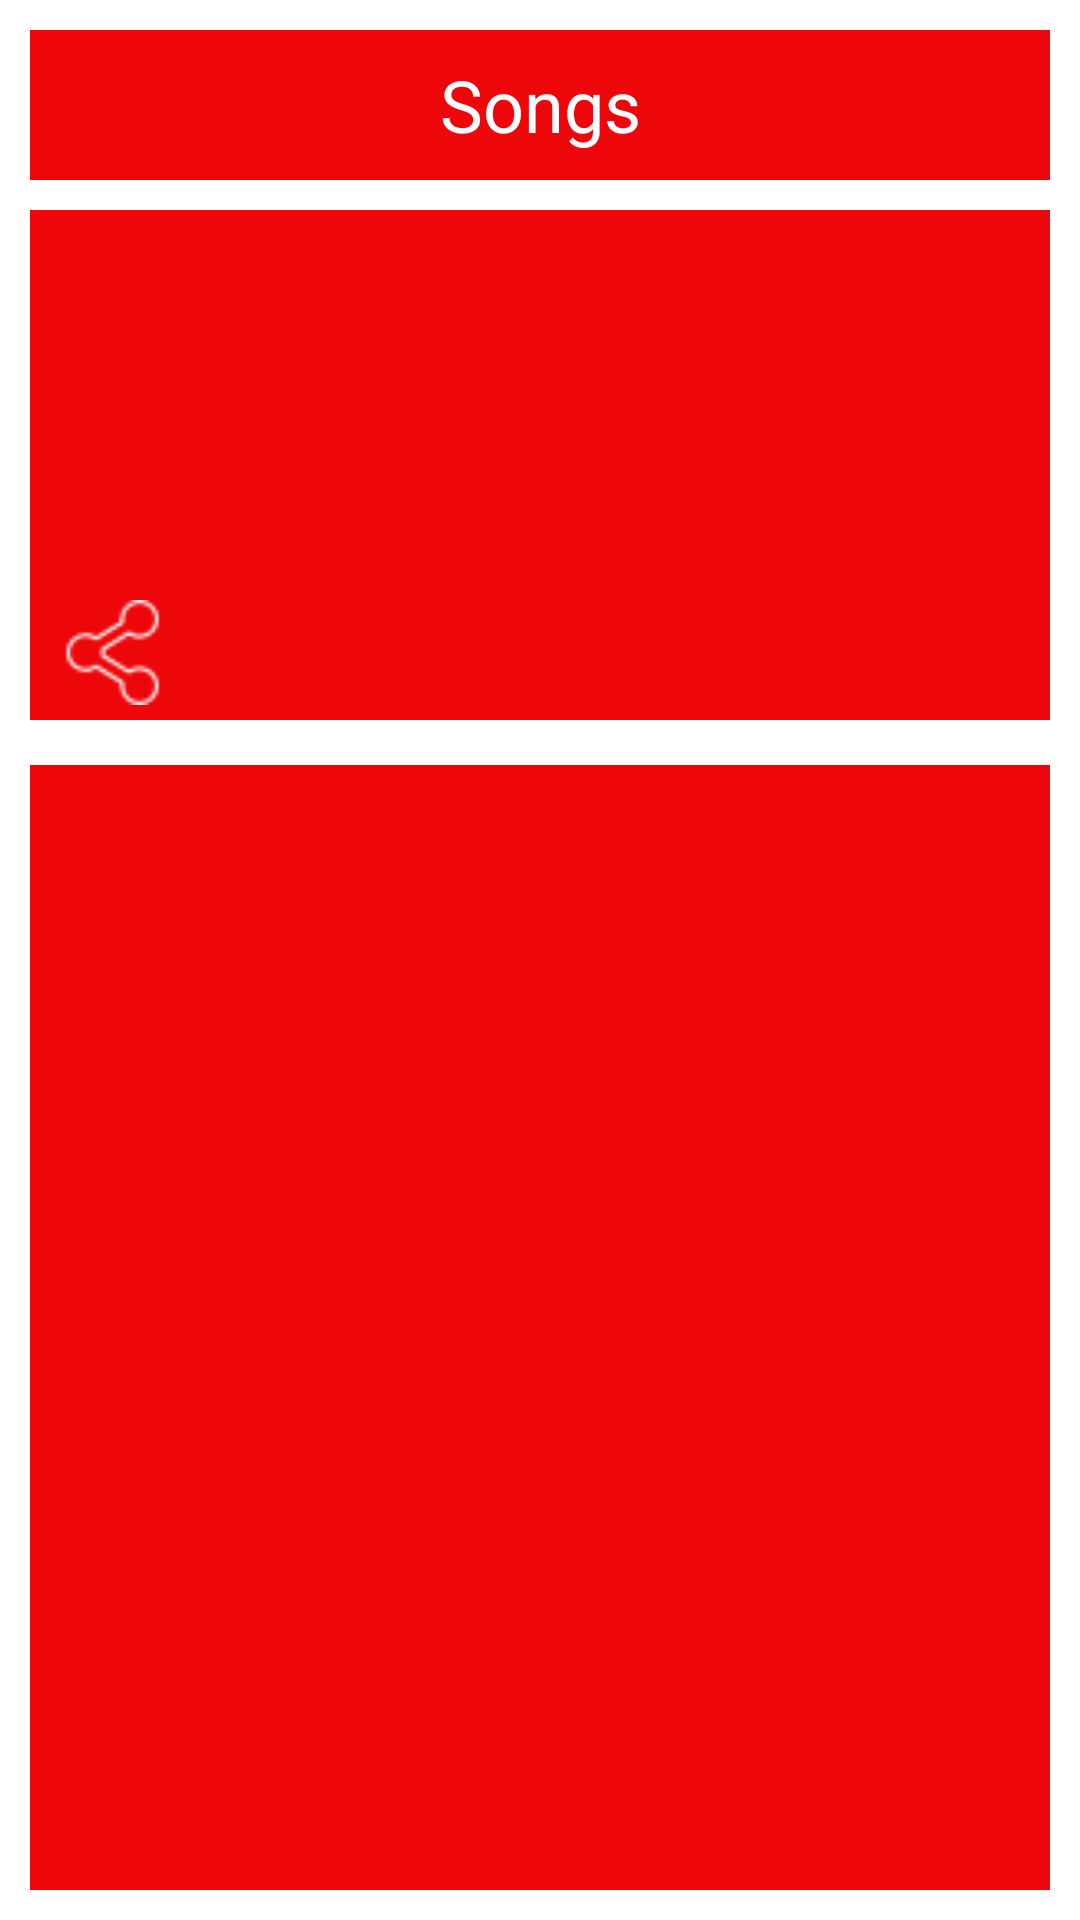

Named icons in this screenshot (1080 x 1920) and their centers, (x=x, y=y):
share: (x=112, y=652)
